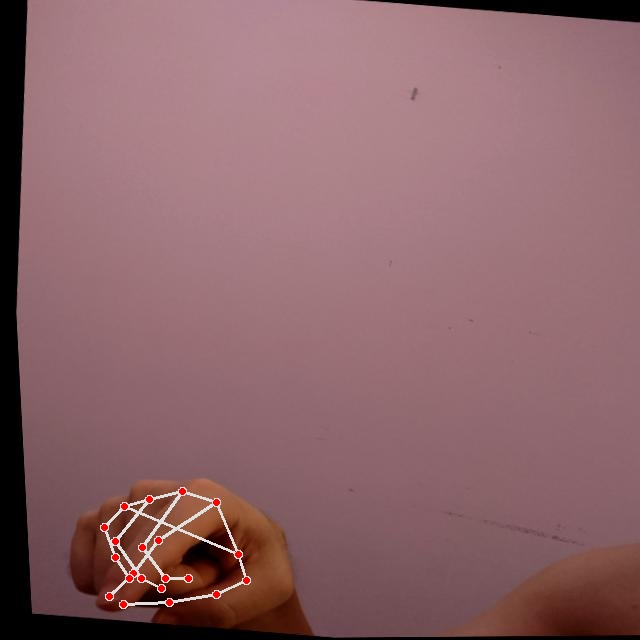Z: (45, 460, 308, 636)
